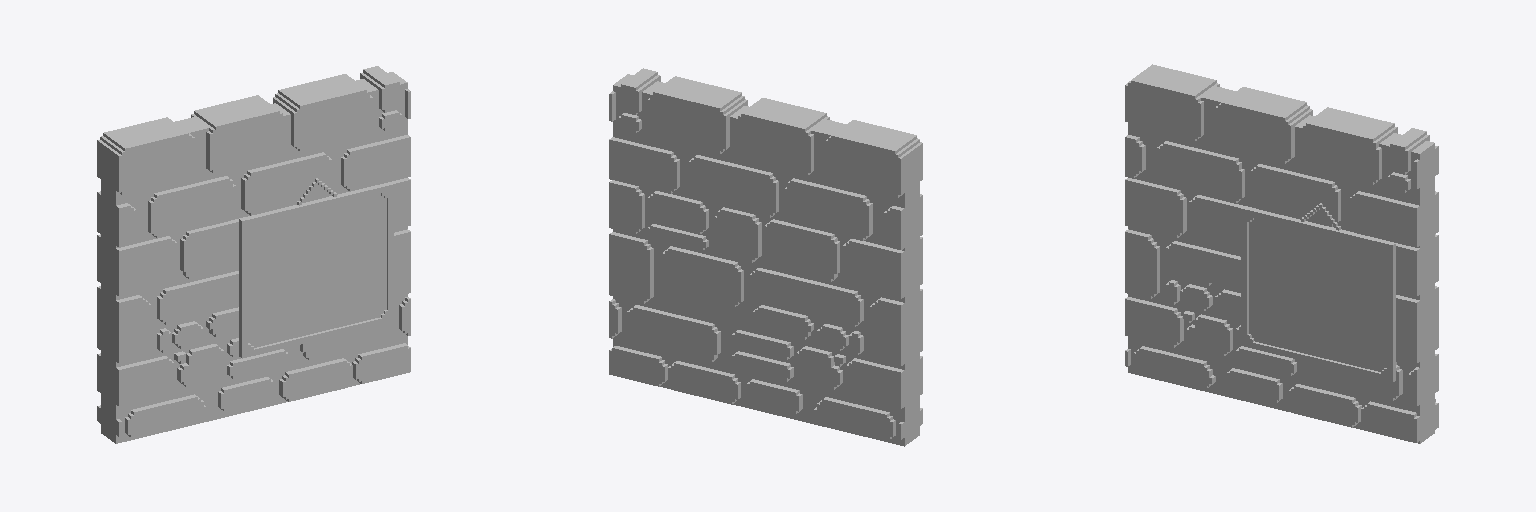
The model's file is GGJ walls 2.3 1.obj.
3 views of the same model, side by side, from view 1: azimuth 30°, elevation 25°; view 2: azimuth 150°, elevation 25°; view 3: azimuth 330°, elevation 25° (orthographic).
Parts seen in each view (by area): view 1: object 1; view 2: object 1; view 3: object 1.
Boxes of the visible parts, x1,y1,x2,y2 form: object 1: [97, 66, 410, 443]; object 1: [609, 68, 922, 446]; object 1: [1125, 64, 1438, 443].
Size of the model in its own units: 10 by 9.7 by 1.5.